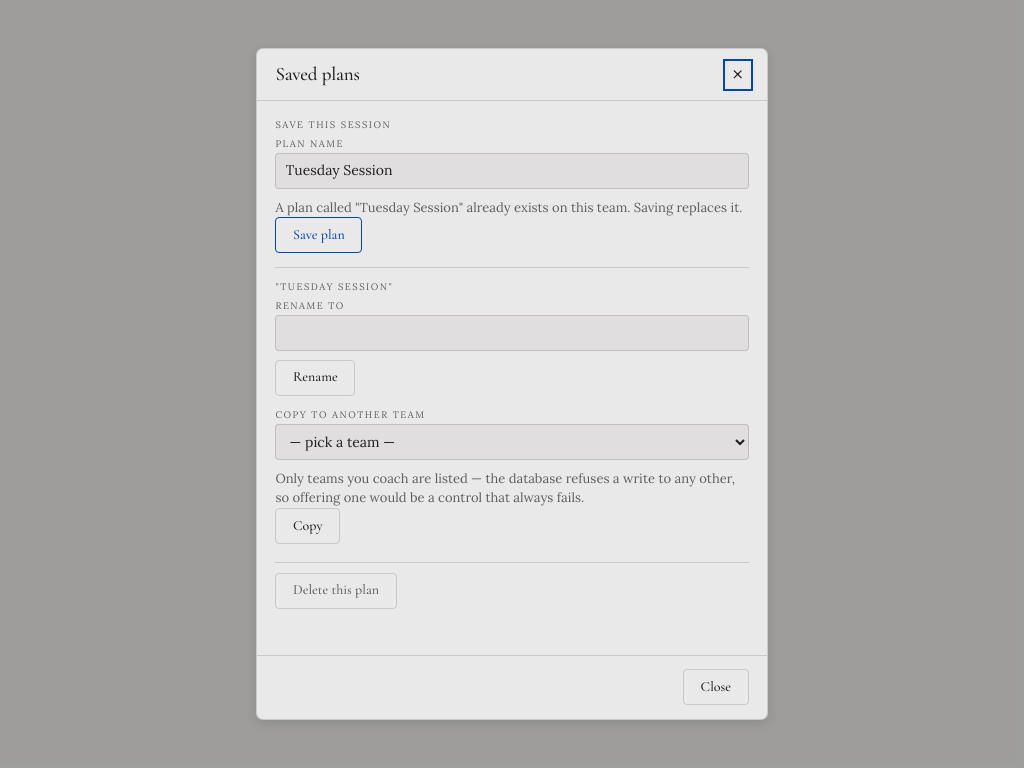
it: renaming › will not rename to nothing
What coordinates should you click on to do the following:
click the button "Rename"
I would click on:
 (315, 378)
Its box is x1=275 y1=360 x2=355 y2=396.
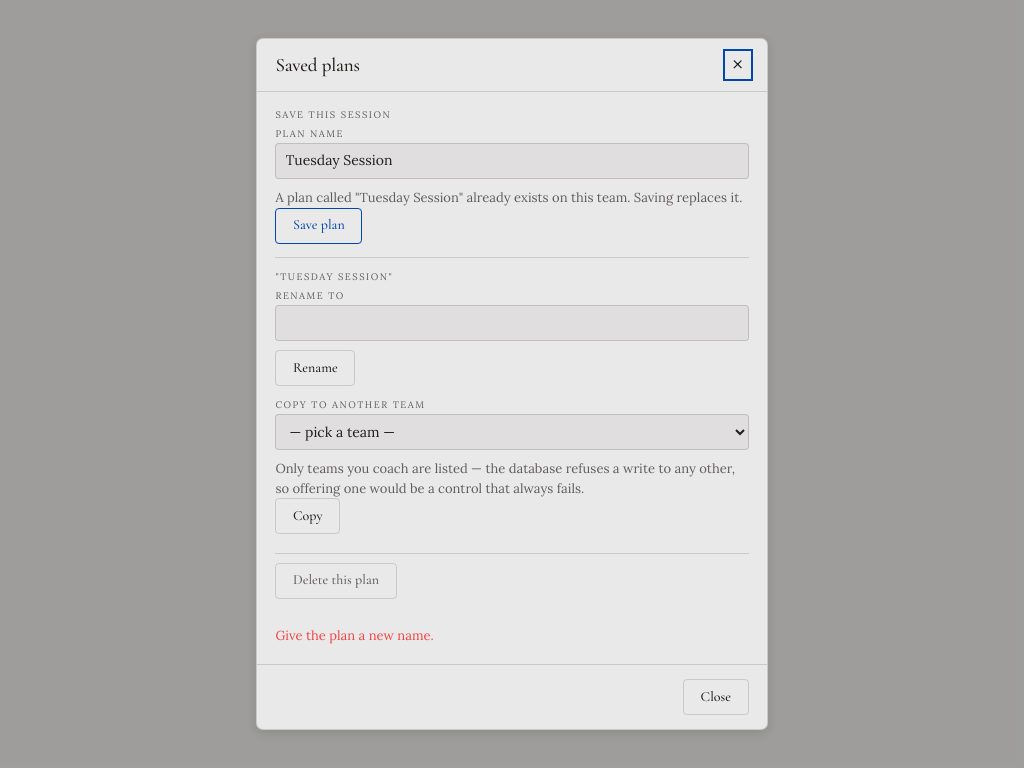
Result: the message "Give the plan a new name." is shown at x1=275 y1=627 x2=434 y2=644
